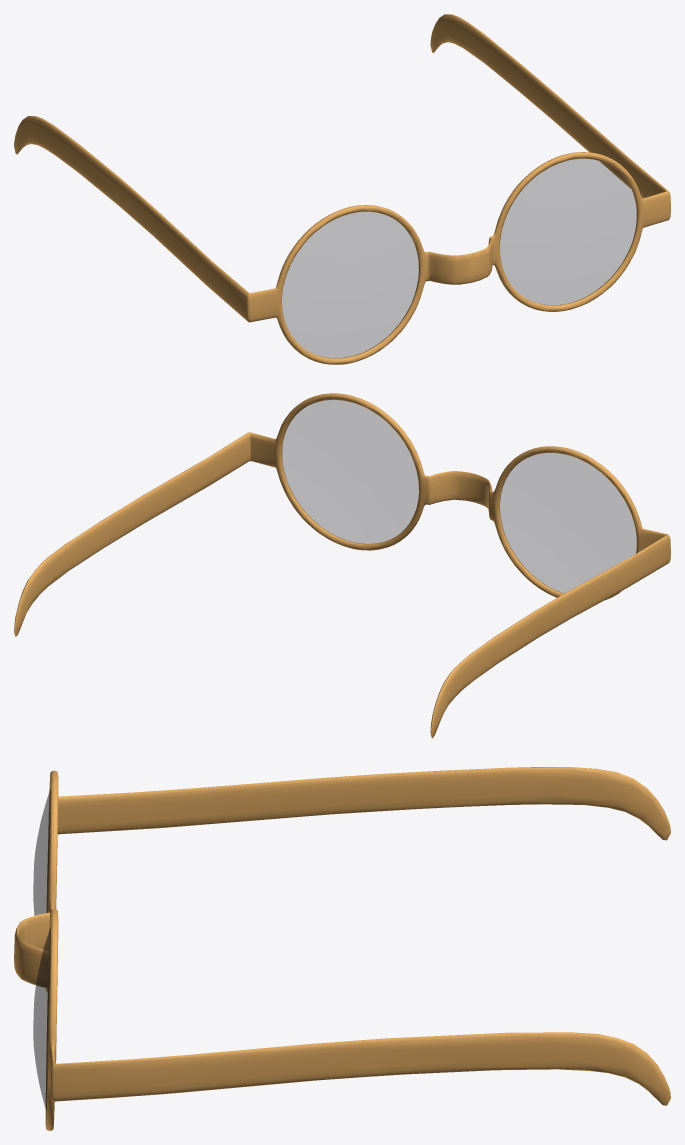
Rendered from eyewear-glasses-yellow-651980a7.glb.
3 views of the same model, one above another, from view 1: azimuth 30°, elevation 25°; view 2: azimuth 150°, elevation 25°; view 3: azimuth 270°, elevation 25° (orthographic). The views are drawn at different scales.
Visible parts, largest first — view 1: Geo_White_Older_Female_Glasses_Yellow.001; view 2: Geo_White_Older_Female_Glasses_Yellow.001; view 3: Geo_White_Older_Female_Glasses_Yellow.001.
Boxes of the visible parts, x1,y1,x2,y2 form: Geo_White_Older_Female_Glasses_Yellow.001: [14, 14, 670, 364]; Geo_White_Older_Female_Glasses_Yellow.001: [14, 393, 670, 738]; Geo_White_Older_Female_Glasses_Yellow.001: [14, 767, 670, 1130].
Bounding box in the file's own units: 1.4 × 0.4853 × 1.44.
